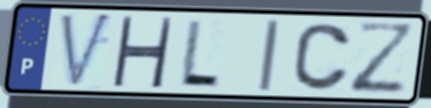C: (290, 21, 353, 93)
H: (108, 14, 176, 90)
I: (256, 17, 282, 94)
L: (175, 17, 223, 90)
V: (57, 10, 116, 91)
Z: (348, 19, 420, 96)
